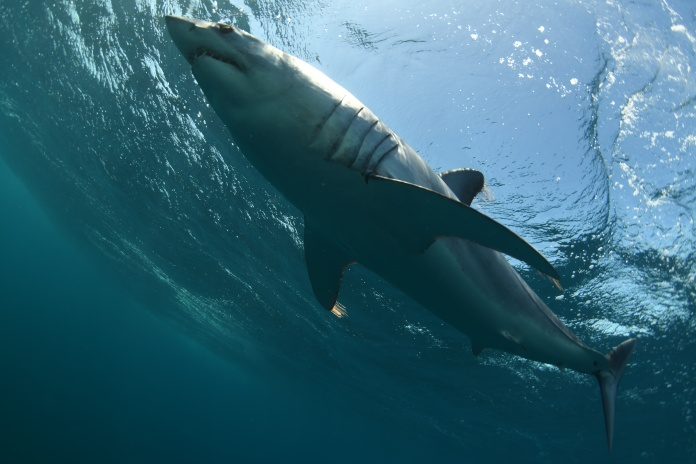Mako: (157, 9, 647, 458)
